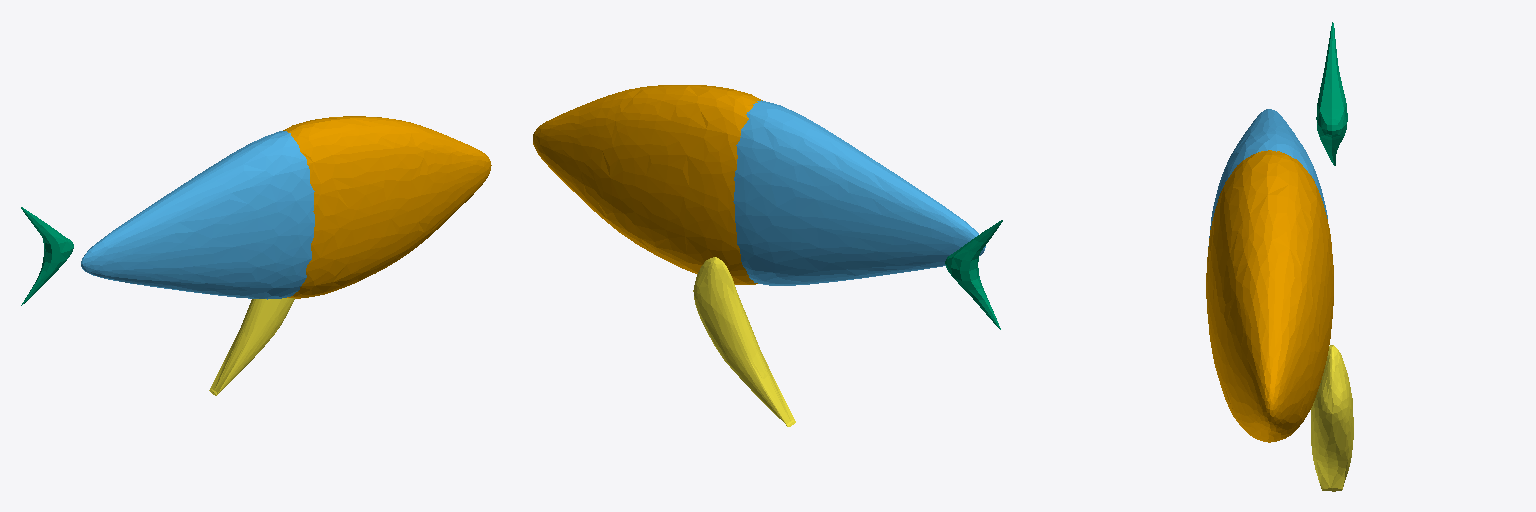
The robot description file, URDF, robot "fish1":
<?xml version="1.0" ?>
<!-- =================================================================================== -->
<!-- |    This document was autogenerated by xacro from Fish1.xacro                    | -->
<!-- |    EDITING THIS FILE BY HAND IS NOT RECOMMENDED                                 | -->
<!-- =================================================================================== -->
<robot name="fish1" xmlns:xacro="http://www.ros.org/wiki/xacro">
  <link name="base_link">
    <visual>
      <origin rpy="0 0 0" xyz="0 0 0"/>
      <geometry>
        <mesh filename="package://uwsim_models/uwsim_fish_urdf/Fish_models/Fish1_1.dae"/> 		<!--robot/Fish1/Fish1_1_new.obj-->
      </geometry>
    </visual>
  </link>

  <link name="body">
    <visual>
      <origin rpy="0 0 0" xyz="0 0 0"/>
      <geometry>
        <mesh filename="package://uwsim_models/uwsim_fish_urdf/Fish_models/Fish1_2.dae"/>		<!--"robot/Fish1/Fish1_2_new.obj"/-->
      </geometry>
    </visual>
  </link>

  <joint name="Slew" type="revolute">
    <parent link="base_link"/>
    <child link="body"/>
    <axis xyz="0 0 -1"/>
    <origin rpy="0 0 0" xyz="0 0 0"/>
    <limit effort="1000.0" lower="-0.5" upper="0.5" velocity="1.0"/>
  </joint>

  <link name="tail">
    <visual>
      <origin rpy="0 0 0" xyz="0 0.5 0"/>
      <geometry>
        <mesh filename="package://uwsim_models/uwsim_fish_urdf/Fish_models/Fish1_Tail.dae"/>	  	<!--"robot/Fish1/Fish1_Tail_new.obj"/-->
      </geometry>
    </visual>
  </link>

  <joint name="Shoulder" type="revolute">
    <parent link="body"/>
    <child link="tail"/>
    <axis xyz="0 0 -1"/>
    <origin rpy="0 0 0" xyz="-5.7 0 0"/>
    <limit effort="1000.0" lower="-0.5" upper="0.5" velocity="1.0"/>
  </joint>

 <link name="fin">
    <visual>
      <origin rpy="0 0 0" xyz="0 0 0"/>
      <geometry>
        <mesh filename="package://uwsim_models/uwsim_fish_urdf/Fish_models/Fish1_Fin.dae"/>		<!--"robot/Fish1/Fish1_Fin_new.obj"/-->
      </geometry>
    </visual>
  </link>

  <joint name="Elbow" type="revolute">
    <parent link="base_link"/>
    <child link="fin"/>
    <axis xyz="0 1 0"/>
    <origin rpy="0 0 0" xyz="0 0.5 -0.3"/>
    <limit effort="1000.0" lower="0" upper="0.5" velocity="1.0"/>
  </joint>

</robot>

--- What the picture shows (computed from the rendered views, not written in the file) ---
Views: 3 orthographic renders of the robot side by side, from view 1: azimuth 30°, elevation 25°; view 2: azimuth 150°, elevation 25°; view 3: azimuth 270°, elevation 25°.
Model fish1 with 4 links and 3 joints (3 revolute), rooted at base_link, posed all joints at 0.
Links seen in each view (by area): view 1: body, base_link, fin, tail; view 2: body, base_link, fin, tail; view 3: base_link, fin, body, tail.
Boxes of the visible links, bbox=[...] form: body: bbox=[81, 131, 314, 299]; base_link: bbox=[283, 116, 491, 298]; fin: bbox=[209, 298, 294, 395]; tail: bbox=[21, 207, 73, 305]; body: bbox=[733, 100, 985, 285]; base_link: bbox=[533, 85, 762, 284]; fin: bbox=[693, 257, 795, 426]; tail: bbox=[945, 220, 1002, 329]; base_link: bbox=[1206, 150, 1333, 442]; fin: bbox=[1311, 345, 1353, 491]; body: bbox=[1208, 109, 1327, 246]; tail: bbox=[1316, 22, 1347, 165].
Size in the robot's own frame: 11.78 by 2.34 by 6.71 metres.
Meshes: 4 distinct files referenced, 4 mesh visuals loaded (4 Collada DAE).